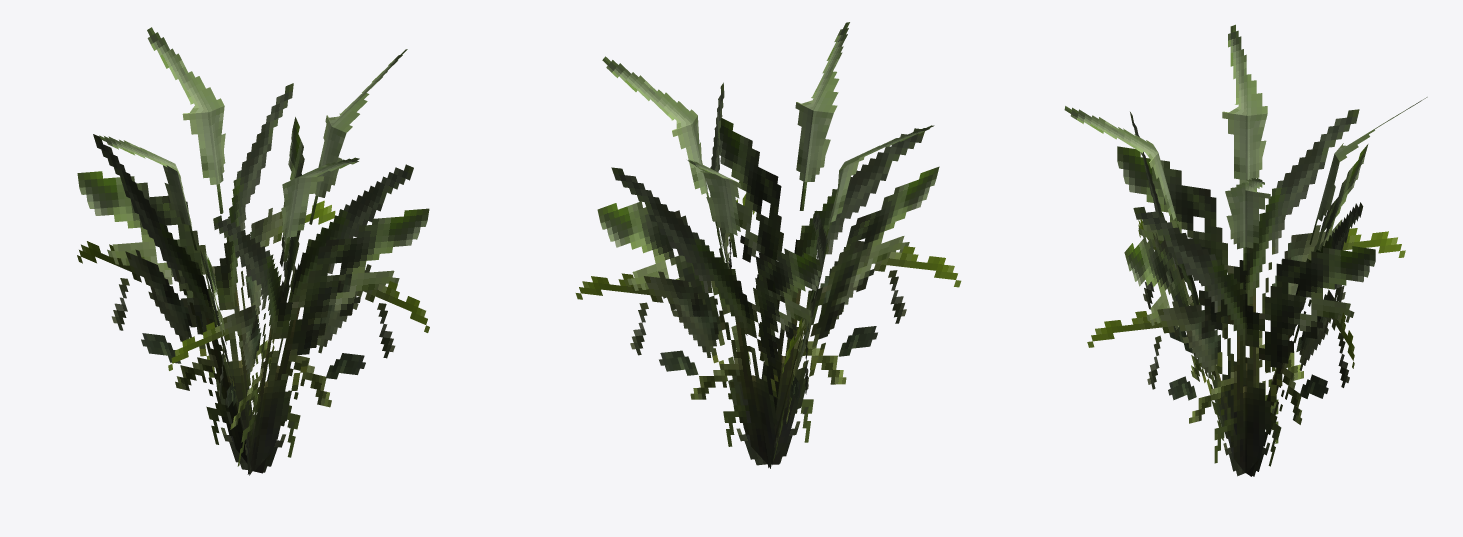
The model's file is Grass_A1.fbx.
3 renders of one model, left to right at view 1: azimuth 30°, elevation 25°; view 2: azimuth 150°, elevation 25°; view 3: azimuth 270°, elevation 25°, orthographic.
Visible parts, largest first — view 1: Grass_A1; view 2: Grass_A1; view 3: Grass_A1.
Boxes of the visible parts, left/top/right/bottom form: Grass_A1: left=77, top=27, right=429, bottom=475; Grass_A1: left=575, top=22, right=961, bottom=468; Grass_A1: left=1064, top=24, right=1427, bottom=476.
Bounding box in the file's own units: 0.4541 × 0.4708 × 0.4541.
